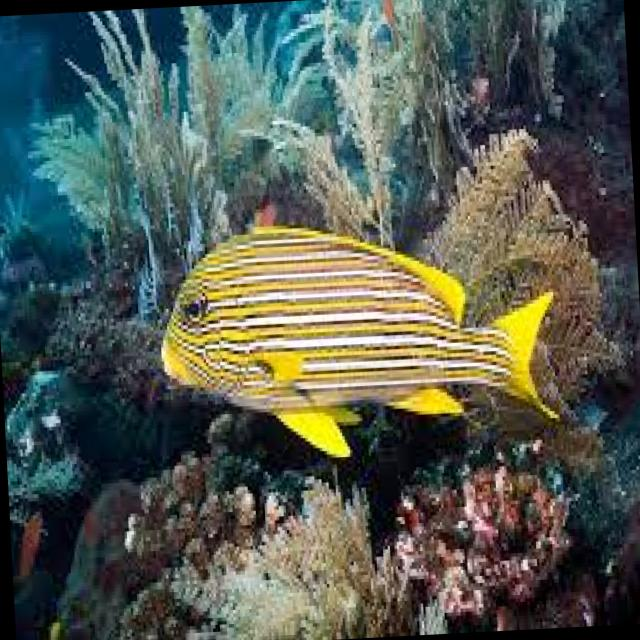RibbonedSweetlips: (150, 201, 570, 470)
